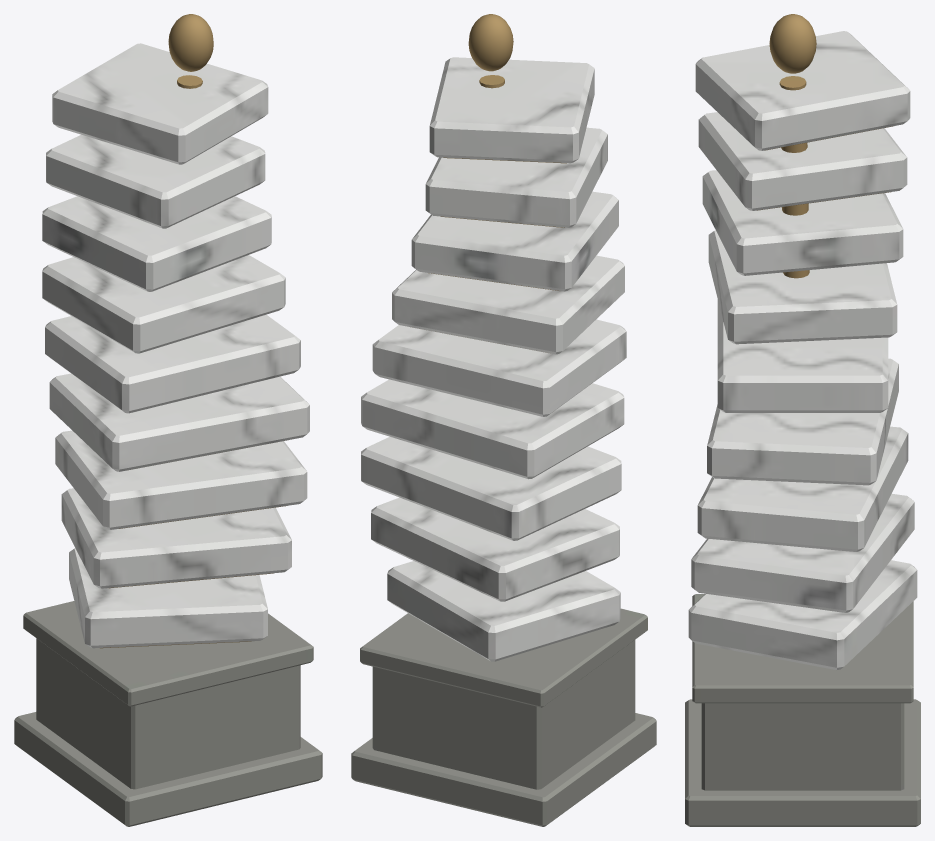
The model's file is desktop.glb.
The picture shows the model from 3 angles, left to right: view 1: azimuth 30°, elevation 25°; view 2: azimuth 150°, elevation 25°; view 3: azimuth 270°, elevation 25°; orthographic projection. The views are drawn at different scales.
Bounding box in the file's own units: 0.9156 × 3 × 0.83.
Materials: 1 (1 with a texture image).
